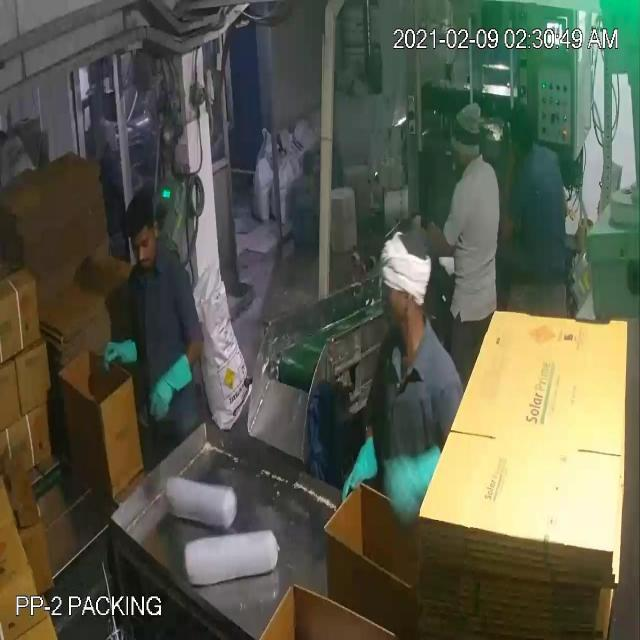Gloves: (46, 49, 411, 486)
